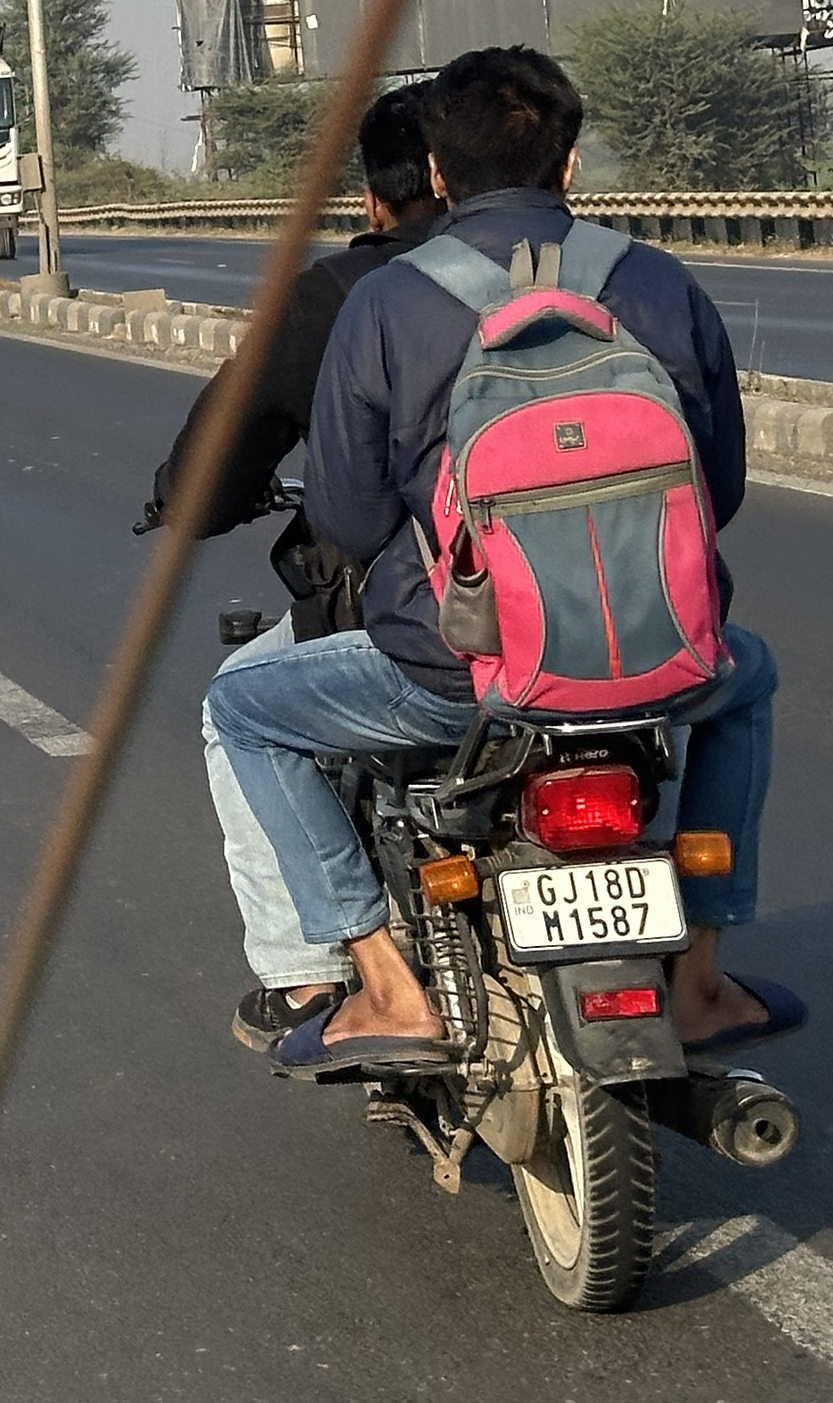BikeWithRider: (115, 29, 820, 1333)
NoHelmet: (406, 33, 602, 228), (329, 72, 470, 258)
